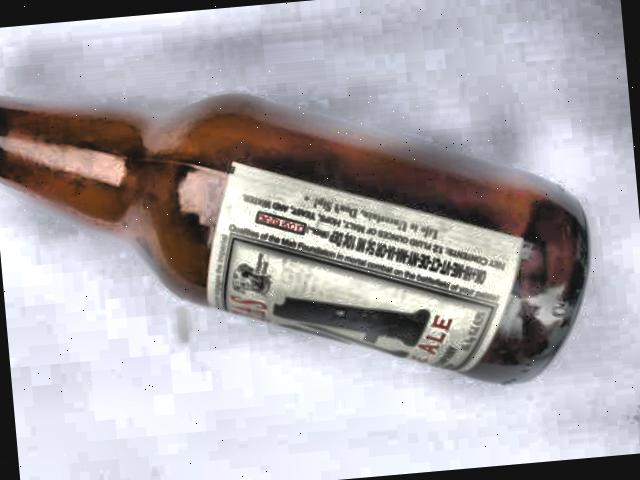Bottles: (0, 14, 629, 451)
